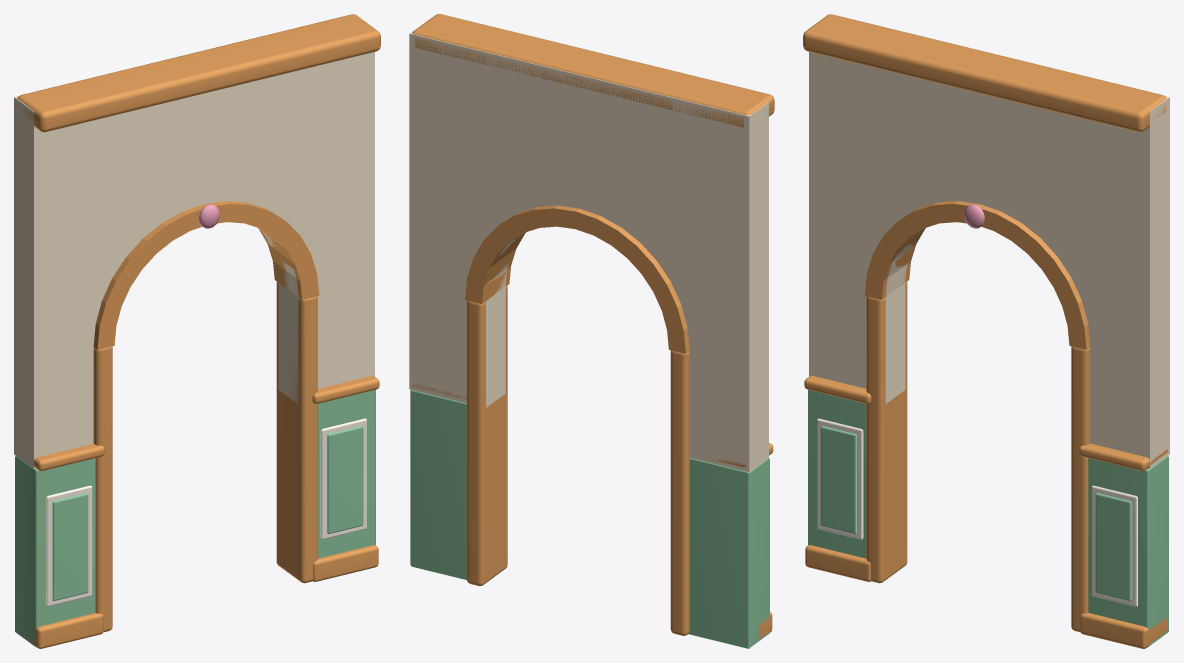
File: wall-doorway.glb
The picture shows the model from 3 angles, left to right: view 1: azimuth 30°, elevation 25°; view 2: azimuth 150°, elevation 25°; view 3: azimuth 330°, elevation 25°; orthographic projection.
Visible parts, largest first — view 1: wall-doorway; view 2: wall-doorway; view 3: wall-doorway.
Part boxes in pixels (box(x1,y1,x2,y2)): wall-doorway: box(14, 14, 380, 648); wall-doorway: box(409, 14, 774, 648); wall-doorway: box(803, 14, 1169, 648).
Size of the model in its own units: 2 by 3.01 by 0.32.
